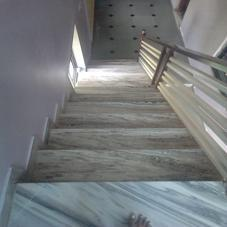Animal: (22, 110, 202, 195)
